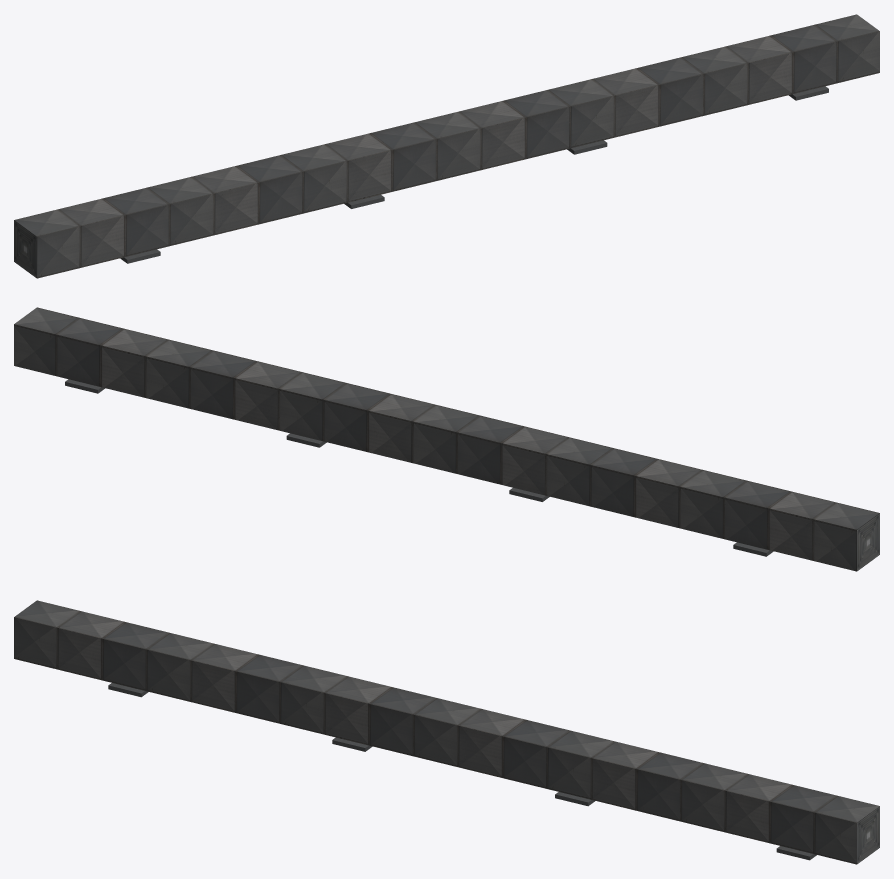
File: SM_Vent_01.FBX
3 renders of one model, top to bottom at view 1: azimuth 30°, elevation 25°; view 2: azimuth 150°, elevation 25°; view 3: azimuth 330°, elevation 25°, orthographic.
Visible parts, largest first — view 1: SM_Vent_01; view 2: SM_Vent_01; view 3: SM_Vent_01.
Part boxes in pixels (left/top/right/bottom): SM_Vent_01: left=14, top=14, right=879, bottom=278; SM_Vent_01: left=14, top=307, right=879, bottom=571; SM_Vent_01: left=14, top=600, right=879, bottom=864.
Size of the model in its own units: 1586 by 91.49 by 75.
